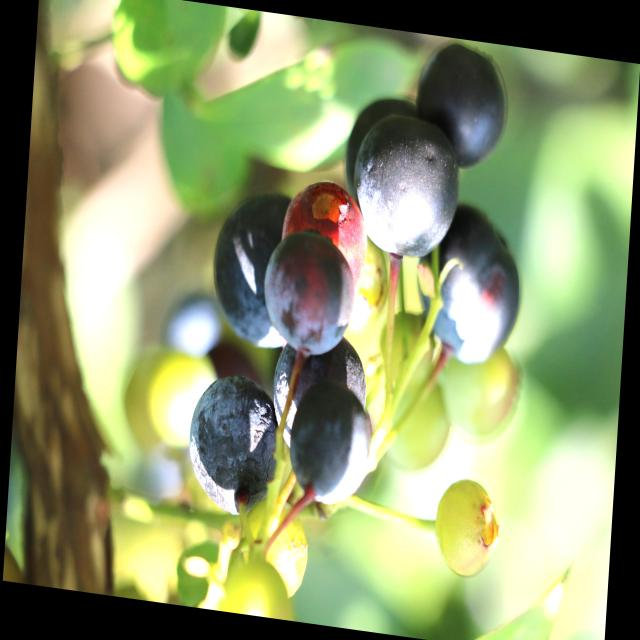blueberry: (419, 192, 526, 372), (351, 112, 466, 265), (205, 185, 295, 353), (187, 364, 280, 520), (412, 40, 512, 172), (259, 234, 358, 365), (263, 333, 371, 447), (288, 382, 375, 508)
blueberry-halfripe: (273, 177, 371, 293)
blueberry-unripe: (438, 336, 521, 437), (432, 477, 501, 579), (255, 499, 310, 599), (224, 550, 299, 621)
